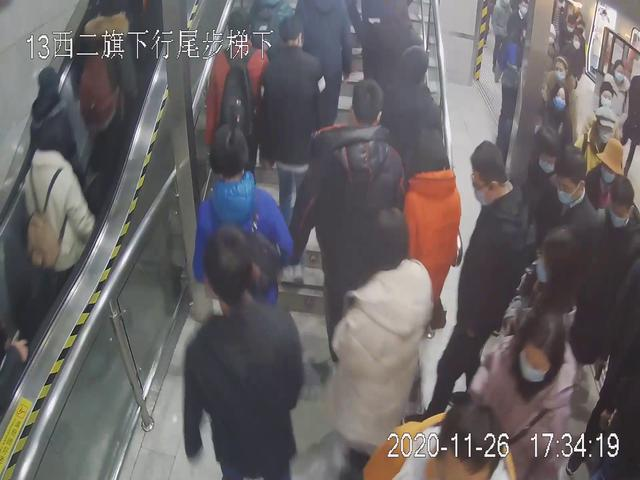person: (163, 227, 315, 480), (323, 214, 440, 480), (430, 136, 538, 416), (310, 76, 404, 345), (181, 117, 297, 331), (477, 314, 587, 480), (264, 16, 334, 258), (23, 104, 97, 332), (73, 1, 139, 180), (201, 10, 266, 189)
